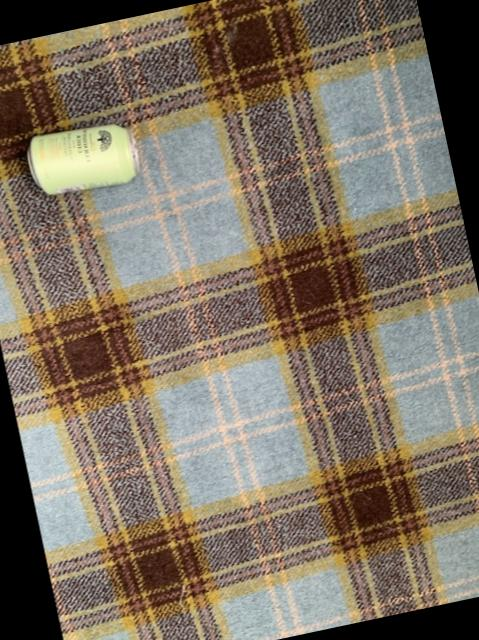metal: (26, 125, 137, 195)
